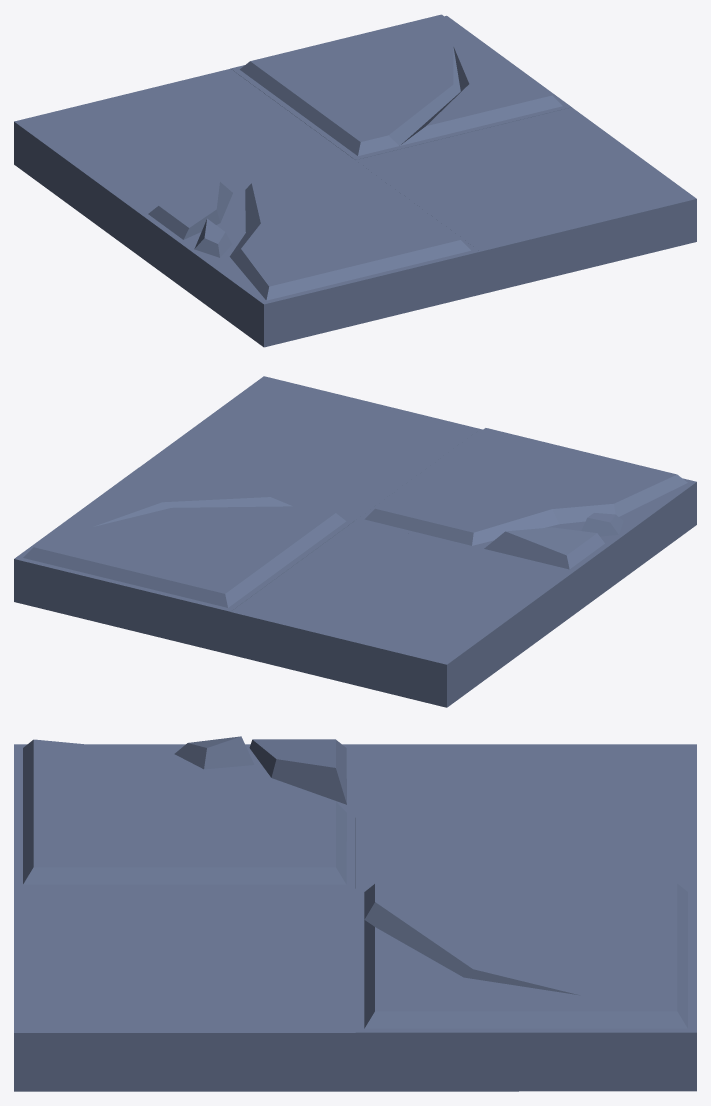
File: piso grande 4.fbx
3 renders of one model, top to bottom at view 1: azimuth 30°, elevation 25°; view 2: azimuth 150°, elevation 25°; view 3: azimuth 270°, elevation 25°, orthographic. The views are drawn at different scales.
Visible parts, largest first — view 1: floor.004; view 2: floor.004; view 3: floor.004.
Part boxes in pixels (x1,y1,x2,y2): floor.004: (14,14,696,347); floor.004: (14,376,696,707); floor.004: (14,736,696,1091).
Bounding box in the file's own units: 211 × 28.66 × 211.
